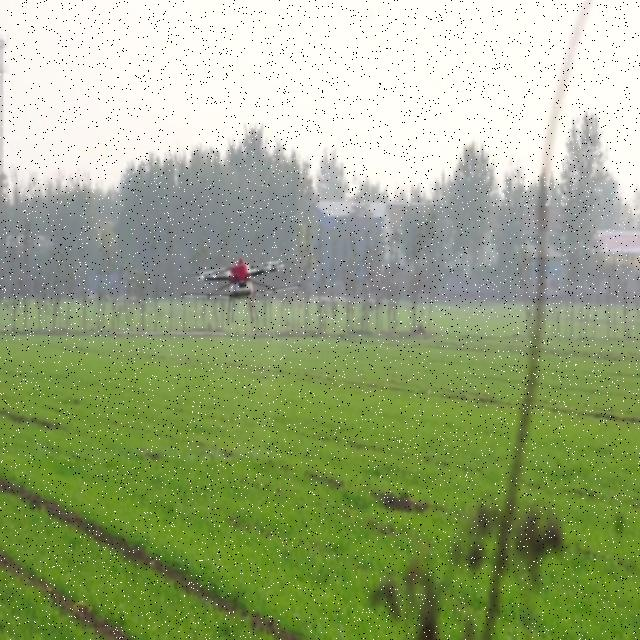UAV: (181, 257, 301, 326)
